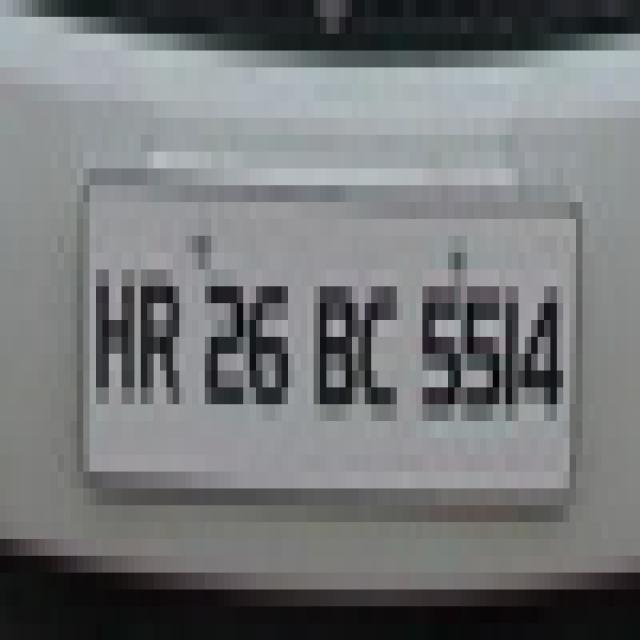1: (503, 260, 521, 418)
4: (522, 272, 568, 436)
5: (419, 264, 462, 418), (462, 265, 506, 412)
6: (247, 269, 292, 422)
B: (314, 268, 359, 420)
C: (360, 265, 403, 424)
H: (90, 255, 138, 413)
R: (138, 251, 186, 431)
